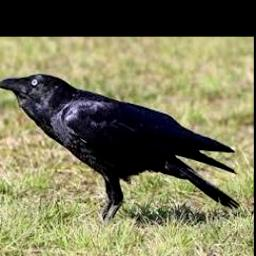Crow: (0, 73, 239, 223)
